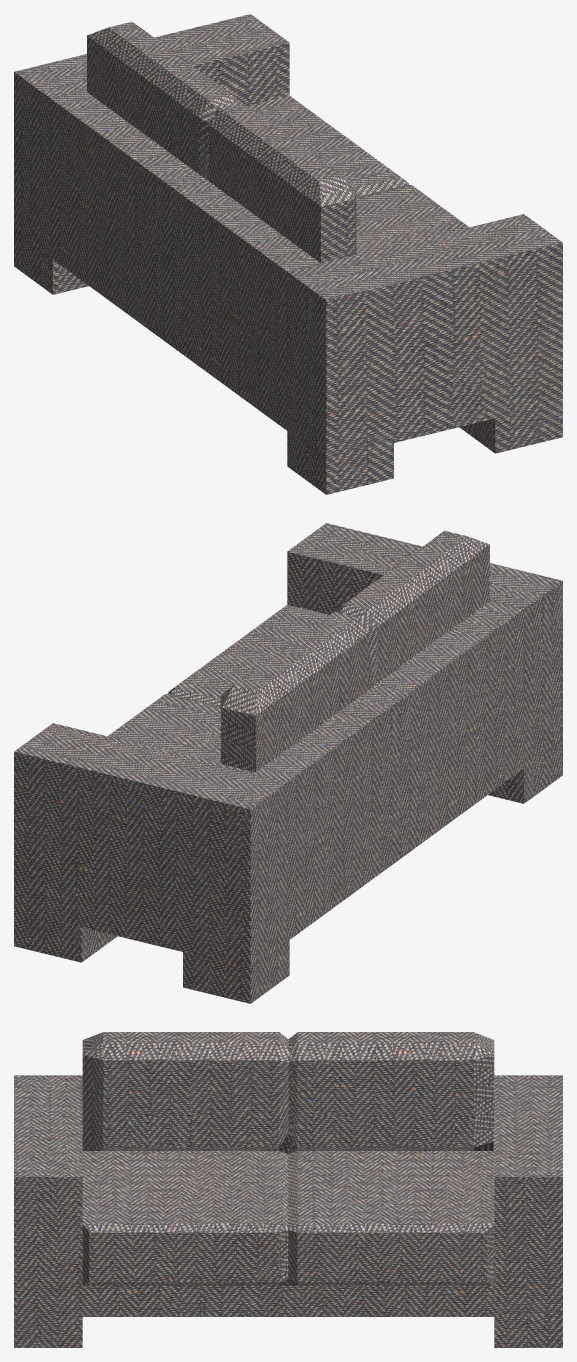
File: sofa_01.glb
3 views of the same model, one above another, from view 1: azimuth 30°, elevation 25°; view 2: azimuth 150°, elevation 25°; view 3: azimuth 270°, elevation 25° (orthographic). The views are drawn at different scales.
Parts seen in each view (by area): view 1: Cube; view 2: Cube; view 3: Cube.
Boxes of the visible parts, left/top/right/bottom form: Cube: left=14, top=14, right=562, bottom=494; Cube: left=14, top=523, right=562, bottom=1003; Cube: left=14, top=1032, right=562, bottom=1347.
Size of the model in its own units: 3.6 by 3.75 by 8.
Materials: 1 (1 with a texture image).
